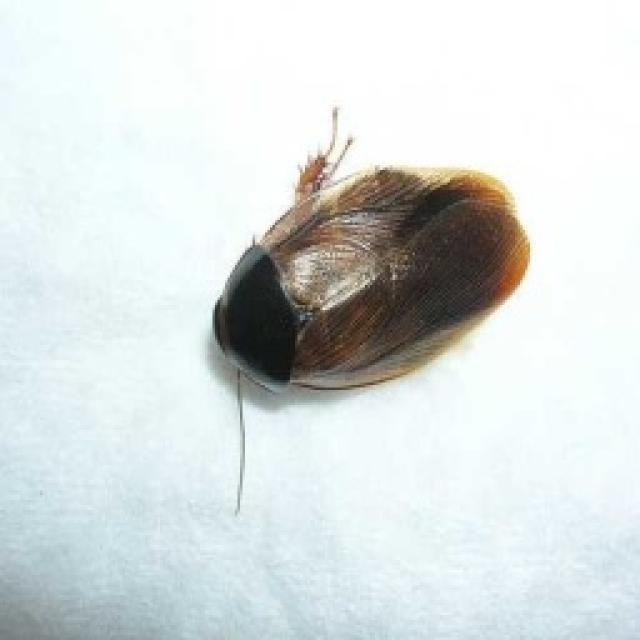cockroach: (205, 102, 536, 516)
